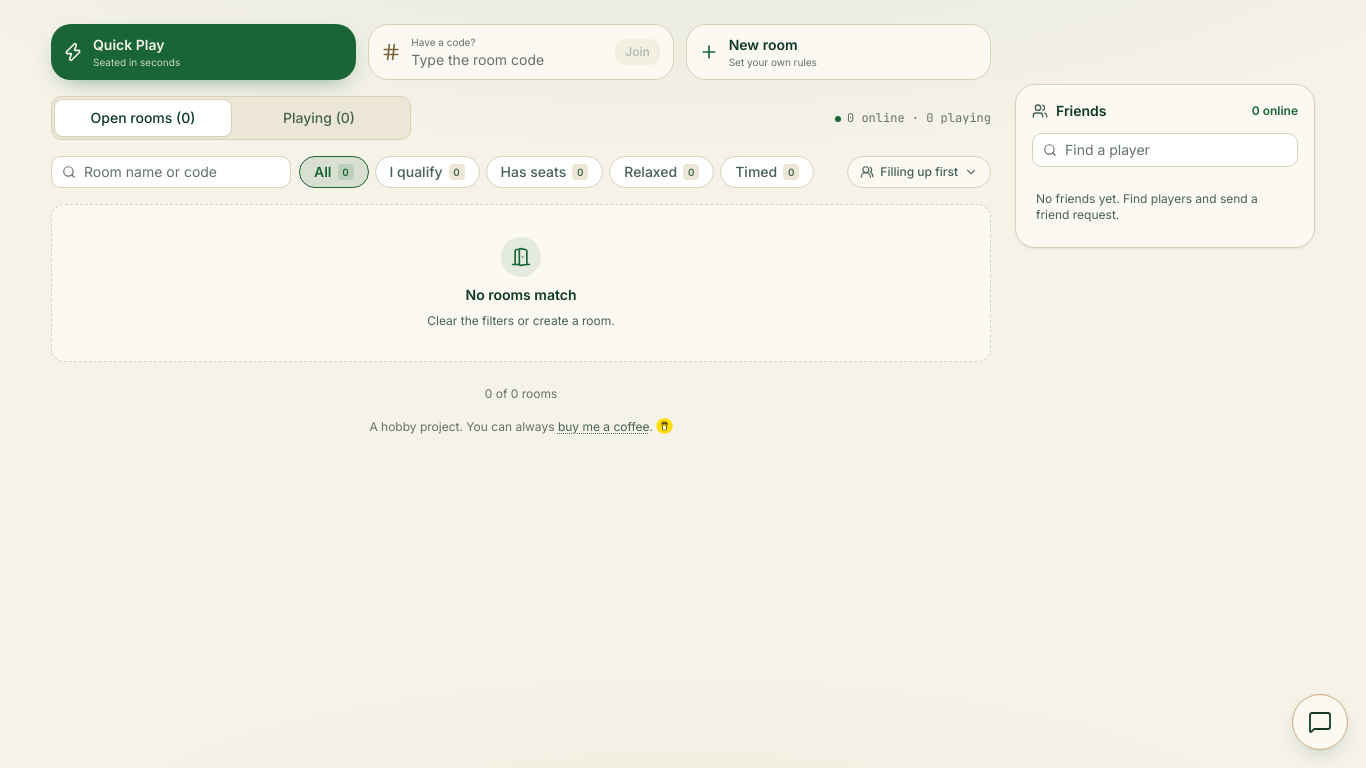
Scenario: LobbyPage › opens CreateRoomModal when Create Room card is clicked
The width and height of the screenshot is (1366, 768).
Click the button with test id "create-room-card": click(763, 44) x1=686 y1=24 x2=991 y2=80
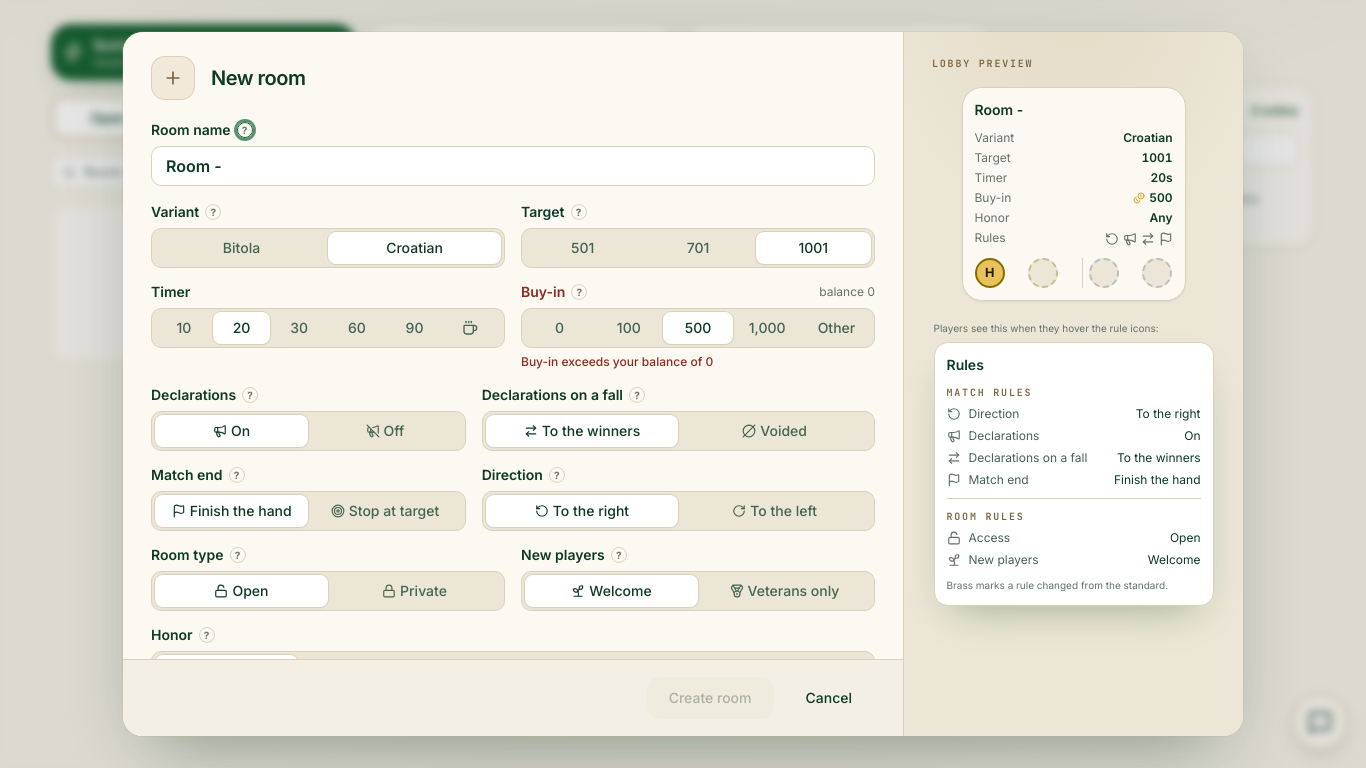
Expected: the field with test id "room-name-input" is shown, x1=151 y1=146 x2=875 y2=186
